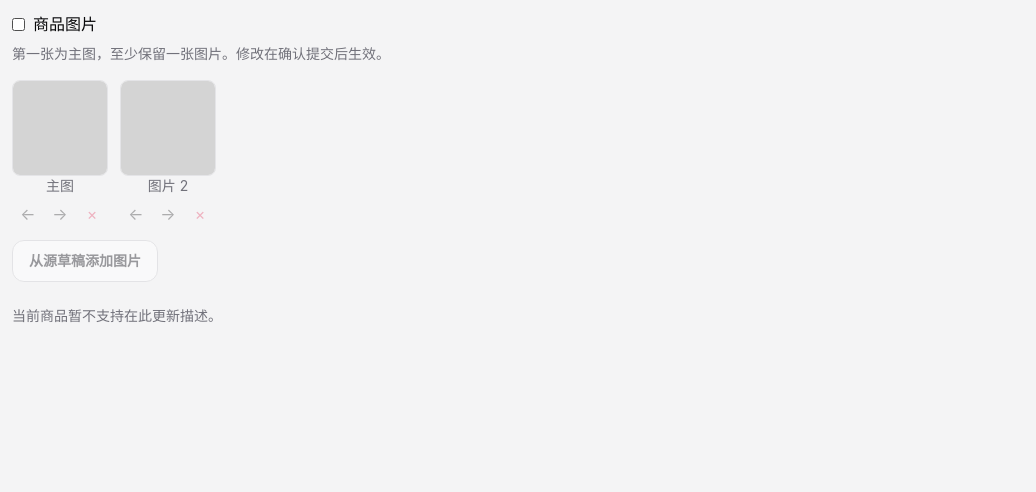
Scenario: 在线商品图片编辑 › 未关联和读取失败有明确提示，失败可重试
What coordinates should you click on to do the following:
click the checkbox labelled "商品图片"
I would click on:
 (18, 24)
Its box is [12,18,25,30].
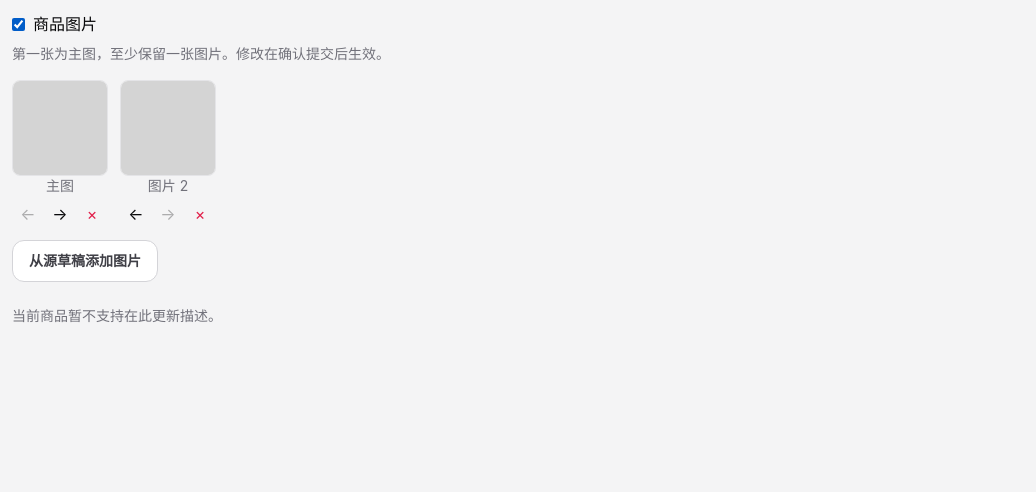
What coordinates should you click on to do the following:
click the button "从源草稿添加图片"
I would click on:
 (85, 261)
Its box is [12,240,158,282].
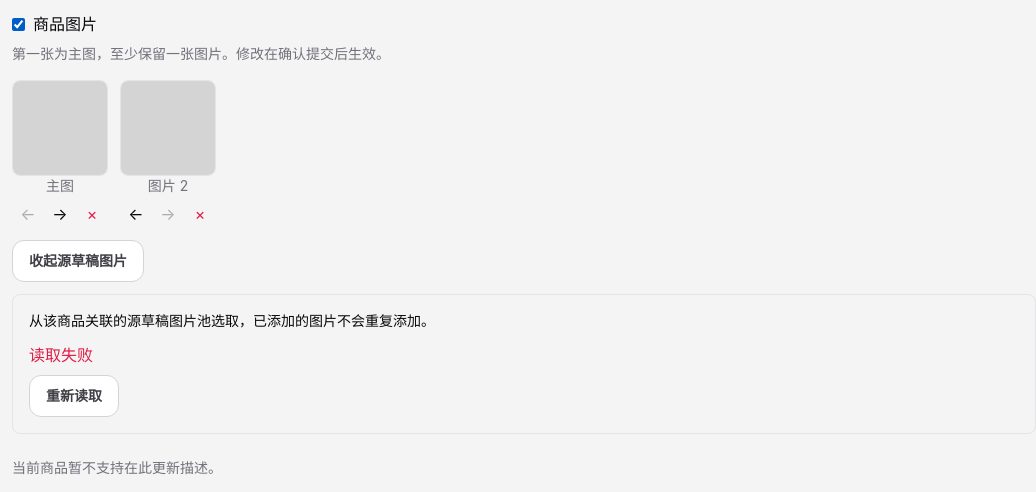
Expected: the message "读取失败" is shown, [29,345,93,365]
What coordinates should you click on to do the following:
click the button "重新读取"
I would click on:
 (74, 396)
Its box is [29,375,119,417].
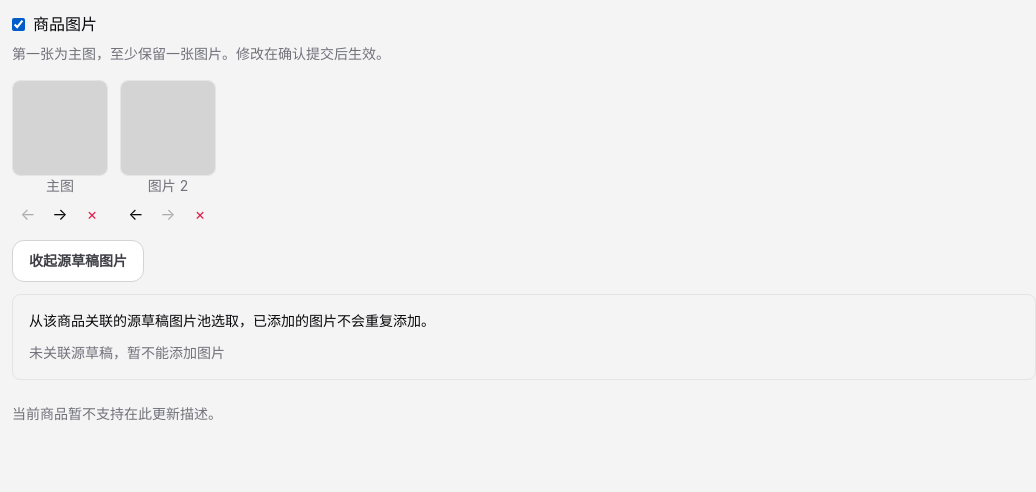
Expected: the message "未关联源草稿，暂不能添加图片" is shown, [29,344,225,361]
